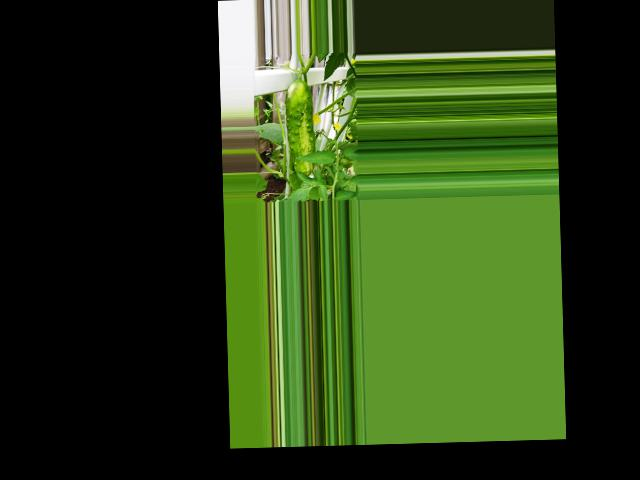cucumber: (284, 79, 314, 175)
